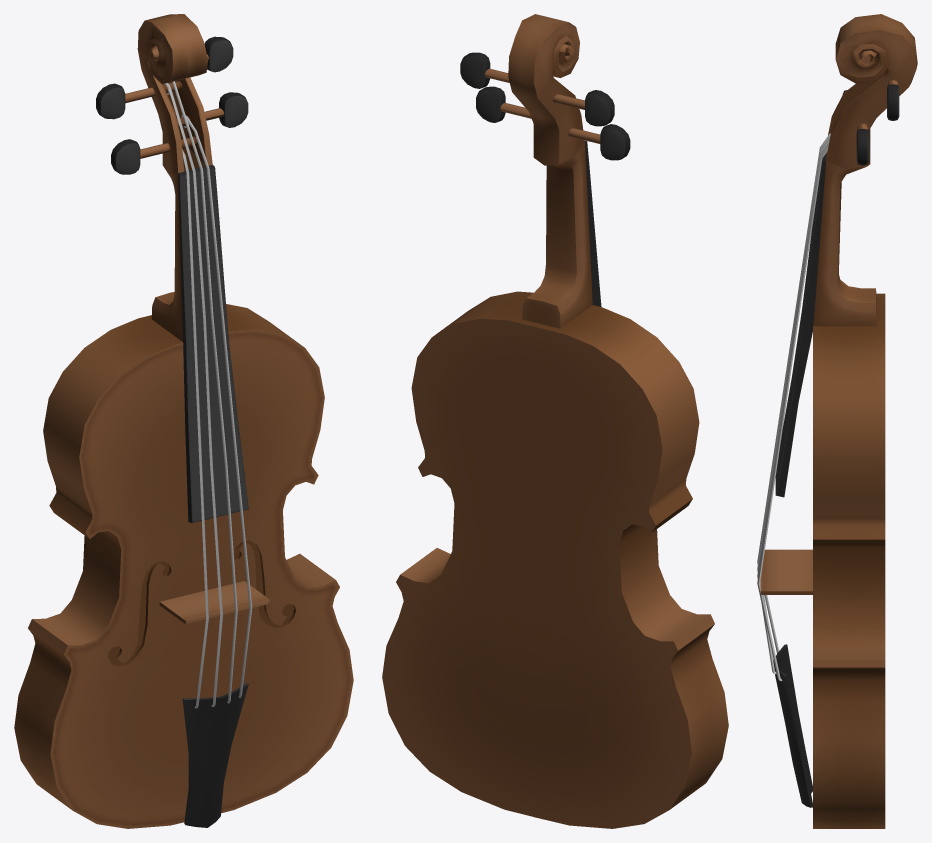
The model's file is violin.gltf.
3 views of the same model, side by side, from view 1: azimuth 30°, elevation 25°; view 2: azimuth 150°, elevation 25°; view 3: azimuth 270°, elevation 25° (orthographic). The views are drawn at different scales.
Parts seen in each view (by area): view 1: violin; view 2: violin; view 3: violin.
Boxes of the visible parts, x1,y1,x2,y2 form: violin: (14,14,353,828); violin: (382,14,728,828); violin: (757,14,917,828).
Bounding box in the file's own units: 0.6149 × 1.51 × 0.2817.
Materials: 1 (1 with a texture image).
